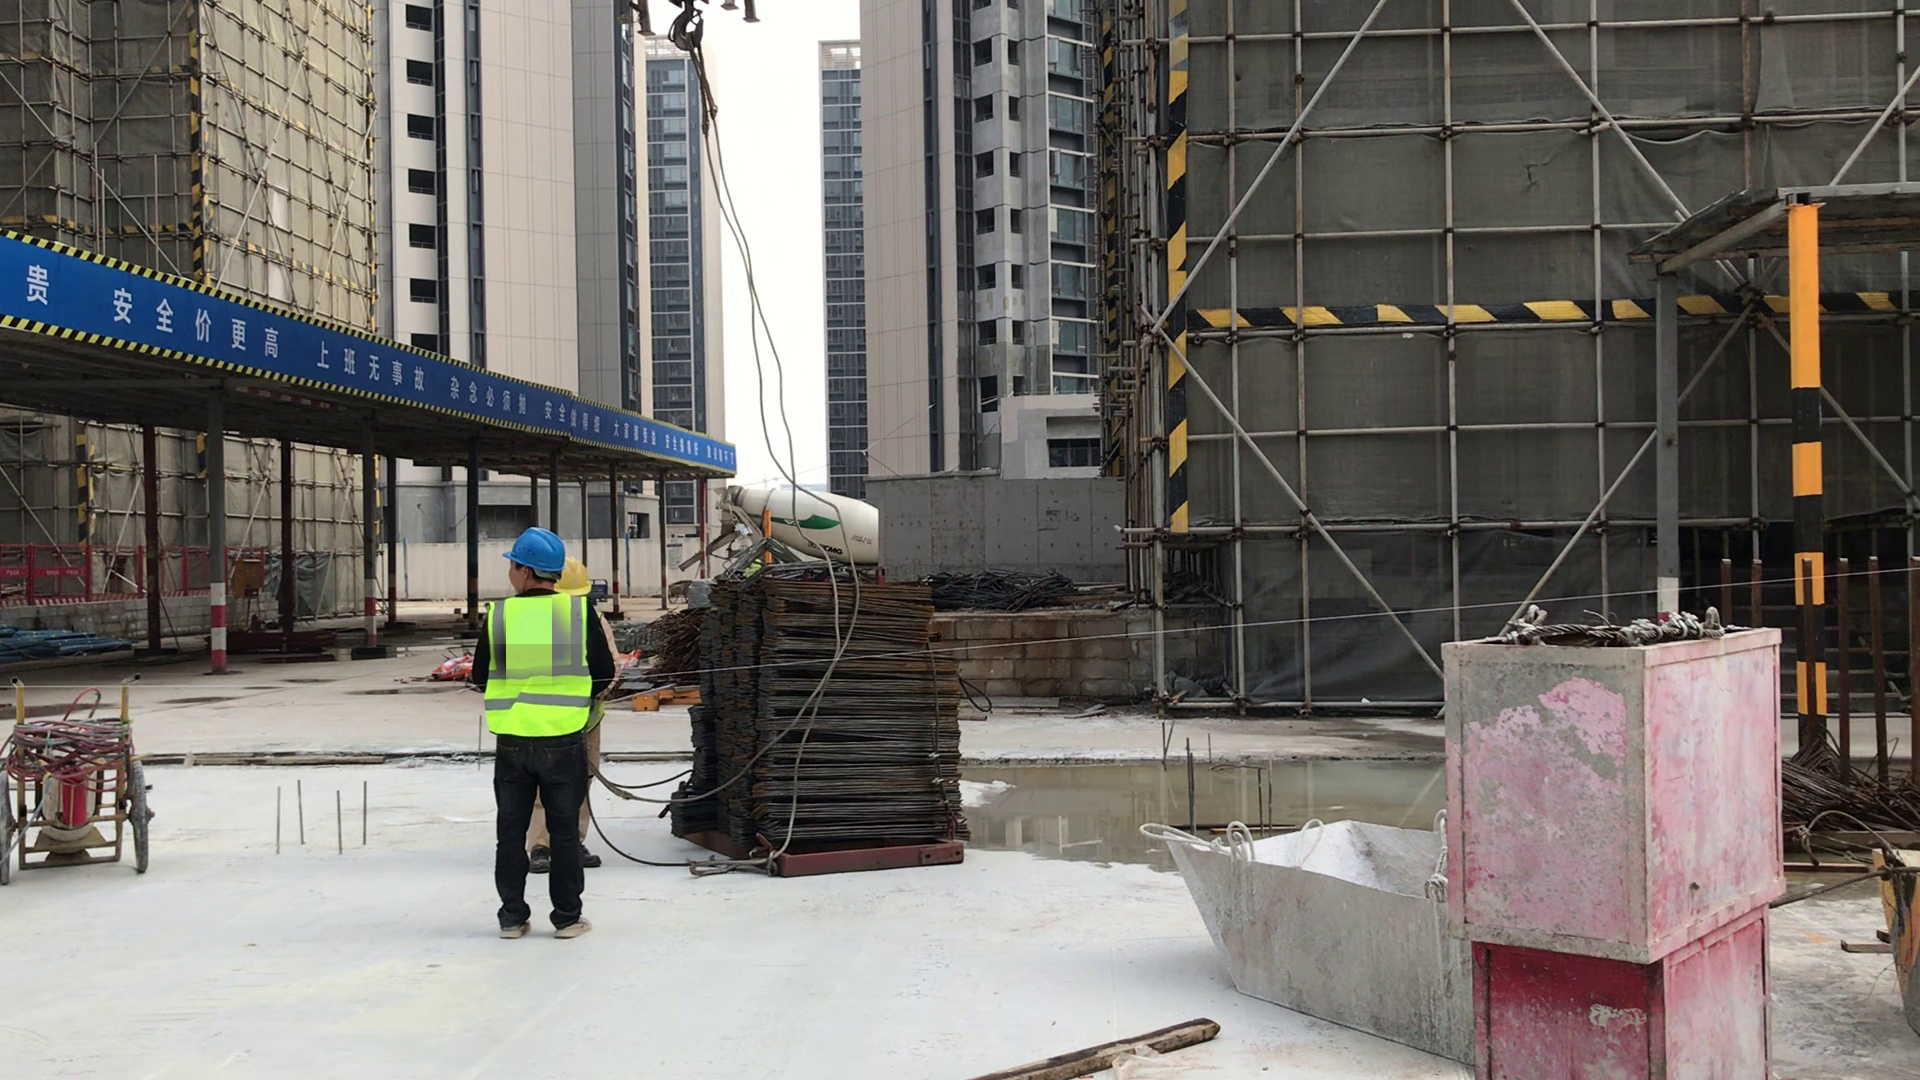ebox: (233, 556, 264, 597)
fence: (1, 542, 272, 612)
helmet: (507, 528, 569, 582)
hook: (621, 1, 782, 61)
hopper: (1135, 799, 1491, 1061)
person: (478, 523, 610, 945)
slogan: (8, 236, 332, 386), (340, 340, 536, 428), (540, 394, 742, 476)
vest: (476, 590, 599, 736)
